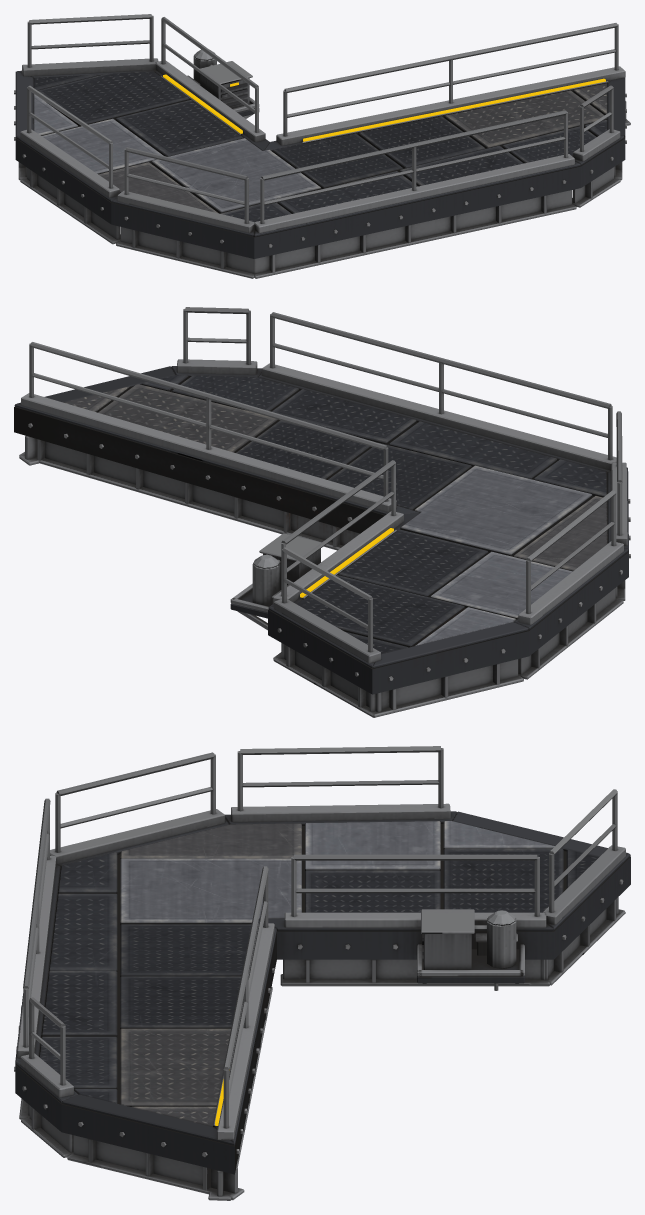
File: nodexeus-set-deck-s2.glb
3 renders of one model, top to bottom at view 1: azimuth 30°, elevation 25°; view 2: azimuth 150°, elevation 25°; view 3: azimuth 270°, elevation 25°, orthographic. The views are drawn at different scales.
Visible parts, largest first — view 1: set-deck-s2; view 2: set-deck-s2; view 3: set-deck-s2.
Part boxes in pixels (x1,y1,x2,y2): set-deck-s2: [14, 14, 630, 278]; set-deck-s2: [14, 307, 630, 717]; set-deck-s2: [14, 746, 630, 1200].
Size of the model in its own units: 10.23 by 1.86 by 8.01.
1 material, 1 textured.
